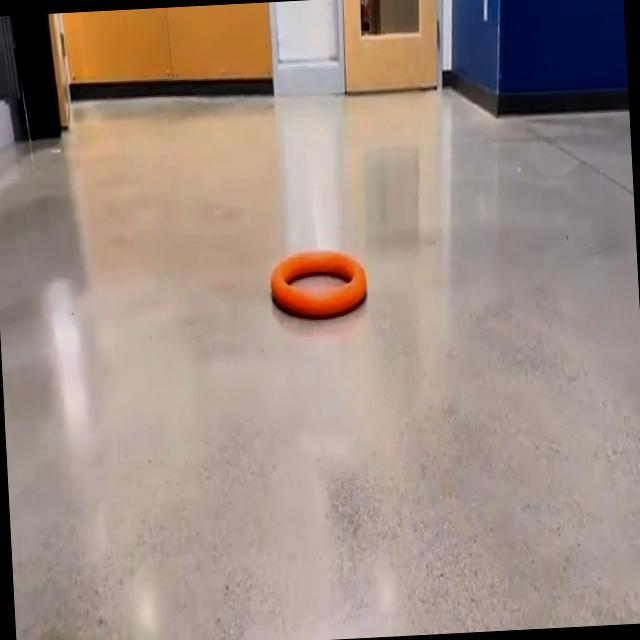note: (270, 252, 367, 317)
